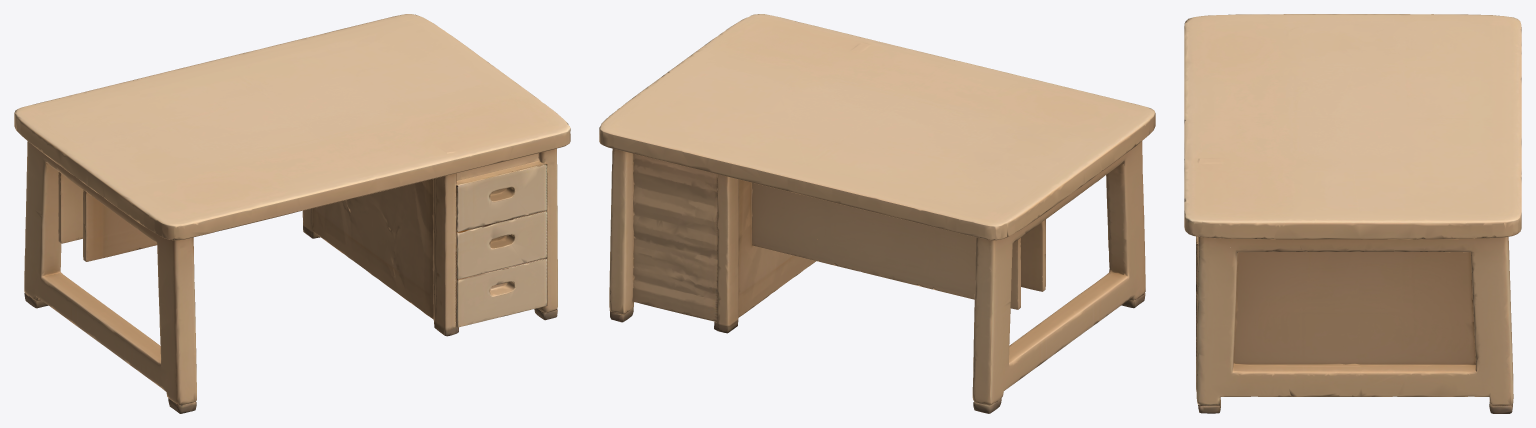
Rendered from desk-9a3173824463.glb.
3 renders of one model, left to right at view 1: azimuth 30°, elevation 25°; view 2: azimuth 150°, elevation 25°; view 3: azimuth 270°, elevation 25°, orthographic. The views are drawn at different scales.
Parts seen in each view (by area): view 1: tripo_node_d69da3fe-80cc-4b54-ab73-5d78f42624e0; view 2: tripo_node_d69da3fe-80cc-4b54-ab73-5d78f42624e0; view 3: tripo_node_d69da3fe-80cc-4b54-ab73-5d78f42624e0.
Part boxes in pixels (left/top/right/bottom): tripo_node_d69da3fe-80cc-4b54-ab73-5d78f42624e0: left=14, top=14, right=570, bottom=413; tripo_node_d69da3fe-80cc-4b54-ab73-5d78f42624e0: left=599, top=14, right=1155, bottom=413; tripo_node_d69da3fe-80cc-4b54-ab73-5d78f42624e0: left=1184, top=14, right=1521, bottom=413.
Size of the model in its own units: 1 by 0.449 by 0.6819.
Materials: 1 (1 with a texture image).
